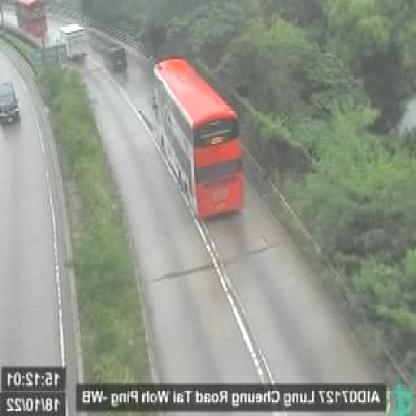Bus: (151, 57, 245, 222), (12, 0, 46, 38)
Car: (0, 80, 20, 130), (103, 40, 127, 74)
Truck: (59, 21, 89, 63)
